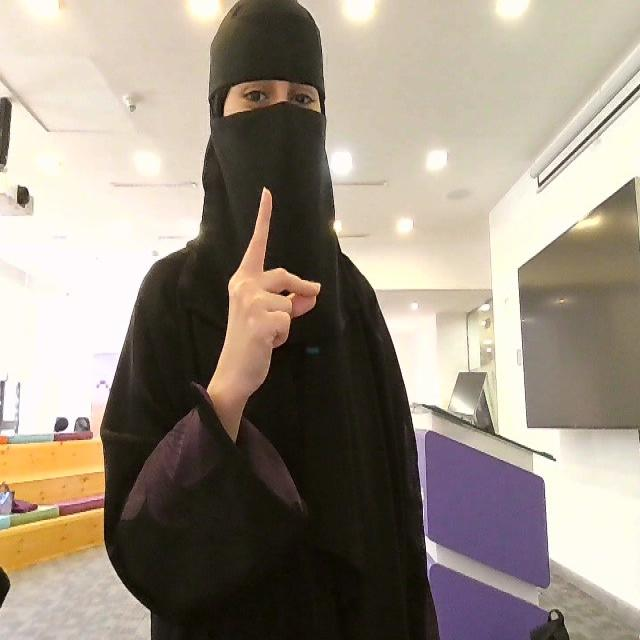emergency: (207, 185, 321, 403)
